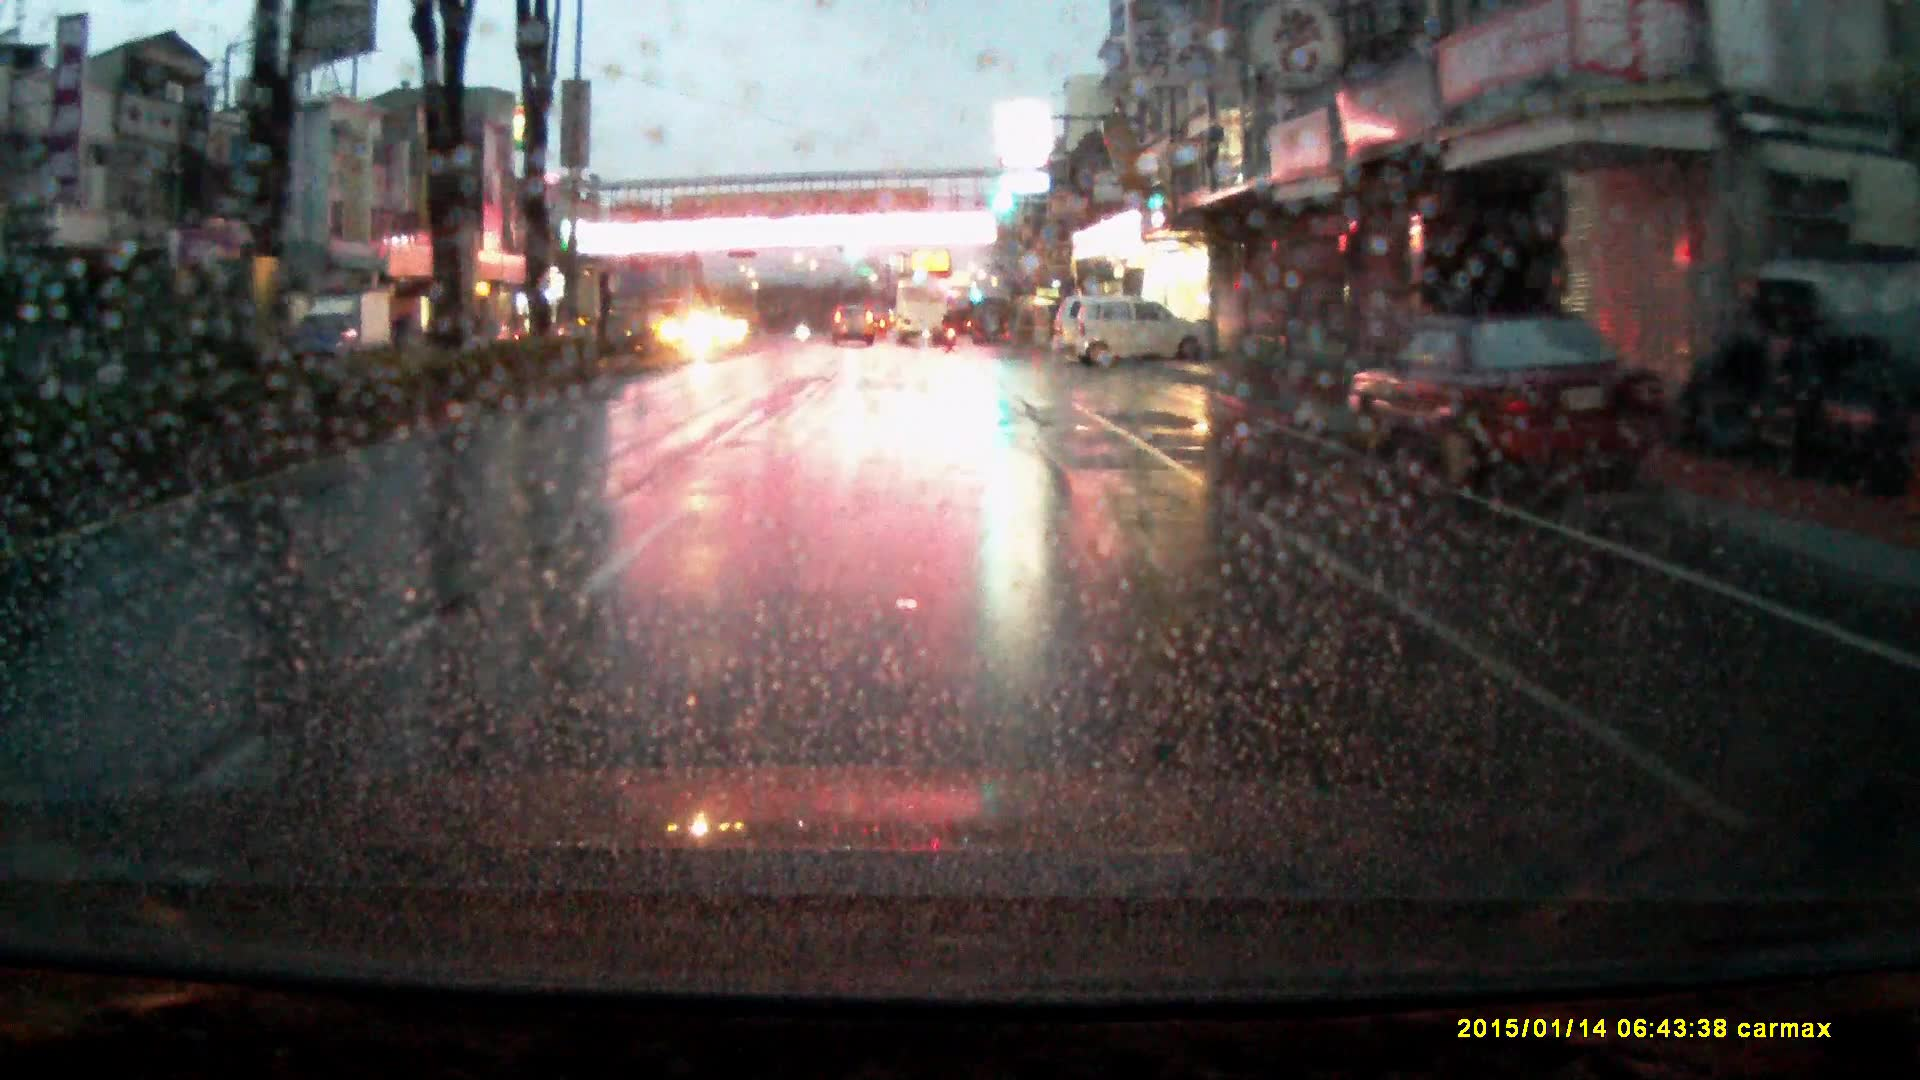vehicle: (1349, 318, 1665, 497), (1071, 294, 1218, 375), (293, 286, 396, 367), (1054, 295, 1113, 352), (895, 280, 945, 345), (833, 297, 880, 340)
